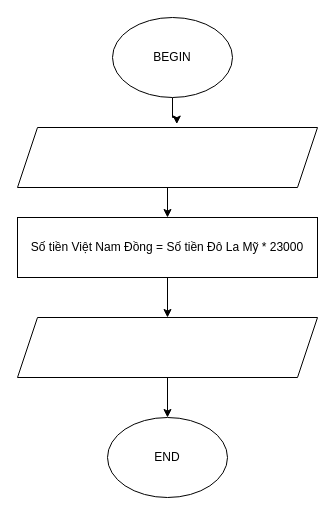
Image size: 335x515. Some labels were removed from this diagram. Here are the shapes that lost their labels. From the top down, the centre of each, then its label:
[167,157]: INPUT Số tiền Đô La Mỹ
[167,347]: DISPLAY "Số tiền Việt Nam Đồng"
